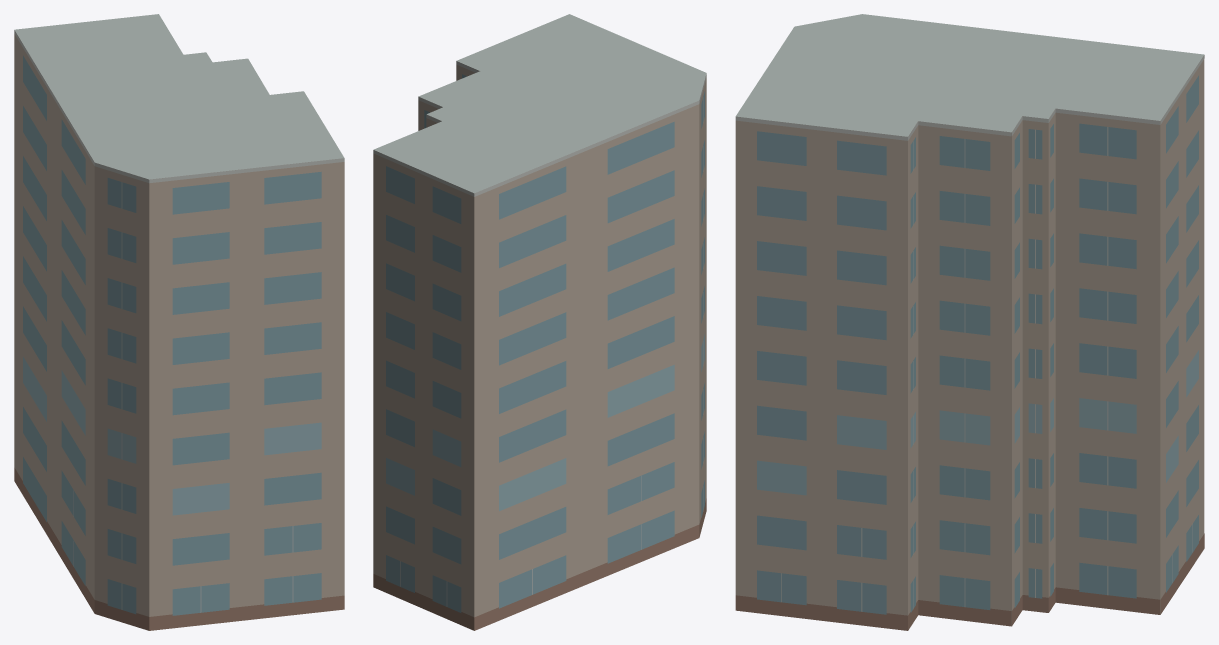
The model's file is survey-upis-32872846.glb.
3 views of the same model, side by side, from view 1: azimuth 30°, elevation 25°; view 2: azimuth 150°, elevation 25°; view 3: azimuth 270°, elevation 25° (orthographic). The views are drawn at different scales.
Visible parts, largest first — view 1: survey-upis-32872846.tmp; view 2: survey-upis-32872846.tmp; view 3: survey-upis-32872846.tmp.
Boxes of the visible parts, bbox=[...] form: survey-upis-32872846.tmp: bbox=[14, 14, 344, 630]; survey-upis-32872846.tmp: bbox=[373, 14, 706, 630]; survey-upis-32872846.tmp: bbox=[735, 14, 1204, 630].
Size of the model in its own units: 15.9 by 29.8 by 25.65.
